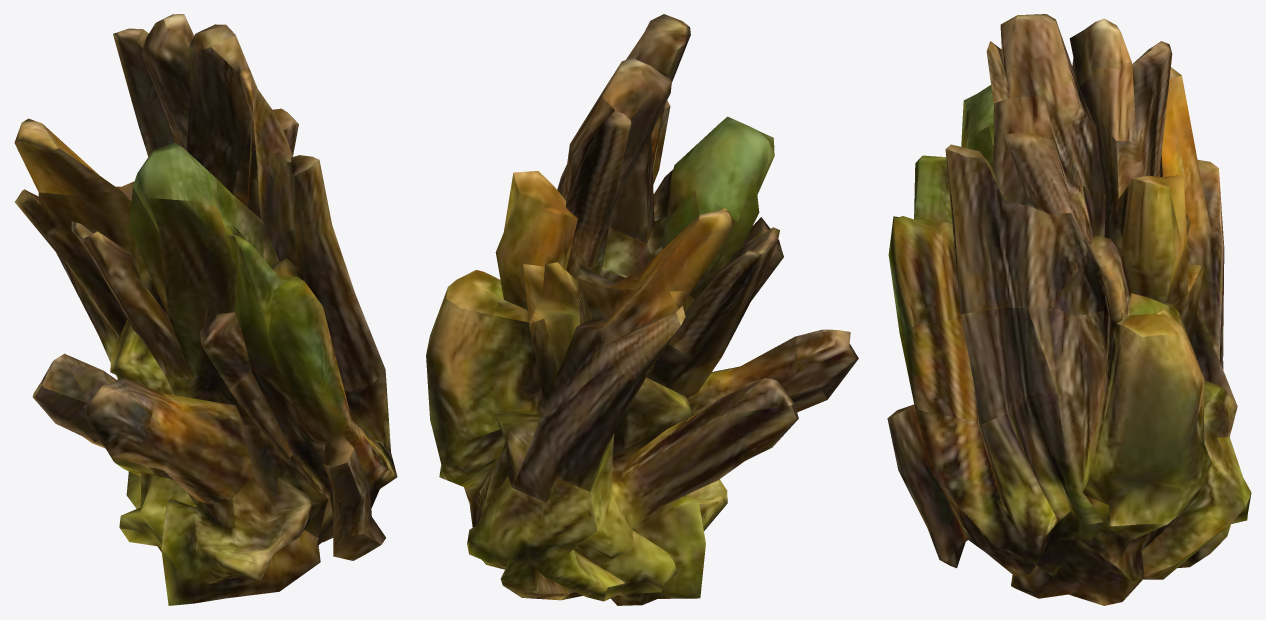
The model's file is crystal-ai_guide_02.glb.
3 views of the same model, side by side, from view 1: azimuth 30°, elevation 25°; view 2: azimuth 150°, elevation 25°; view 3: azimuth 270°, elevation 25° (orthographic). The views are drawn at different scales.
Visible parts, largest first — view 1: mesh_node.003; view 2: mesh_node.003; view 3: mesh_node.003.
Part boxes in pixels (x1,y1,x2,y2): mesh_node.003: (14,14,397,605); mesh_node.003: (426,14,858,605); mesh_node.003: (887,14,1251,605).
Size of the model in its own units: 0.2988 by 0.4961 by 0.2939.
Materials: 1 (1 with a texture image).
